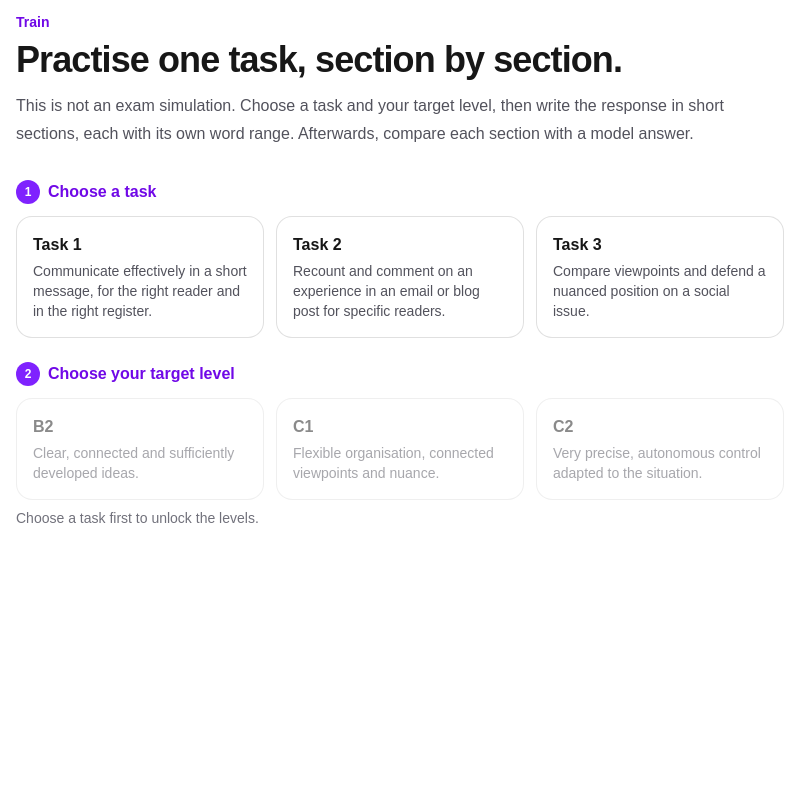
Test: PracticeTrainer › unlocks levels after a task, then previews the three sections with their word ranges
expect the button "B2 Clear, connected and sufficiently developed ideas." is disabled: met, box [16,398,264,500]
expect the text "Start the exercise" is not shown: met
Click the button that starts with "Task 2" at (400,277), box [276,216,524,338]
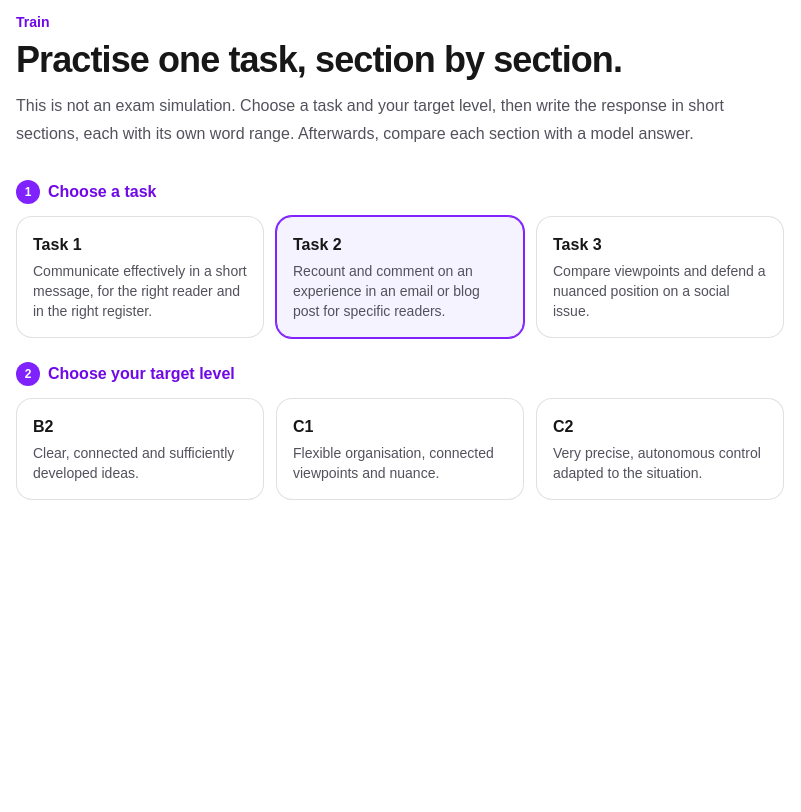
expect the button "B2 Clear, connected and sufficiently developed ideas." is enabled: met, box [16,398,264,500]
Click the button "C1 Flexible organisation, connected viewpoints and nuance." at (400,449), box [276,398,524,500]
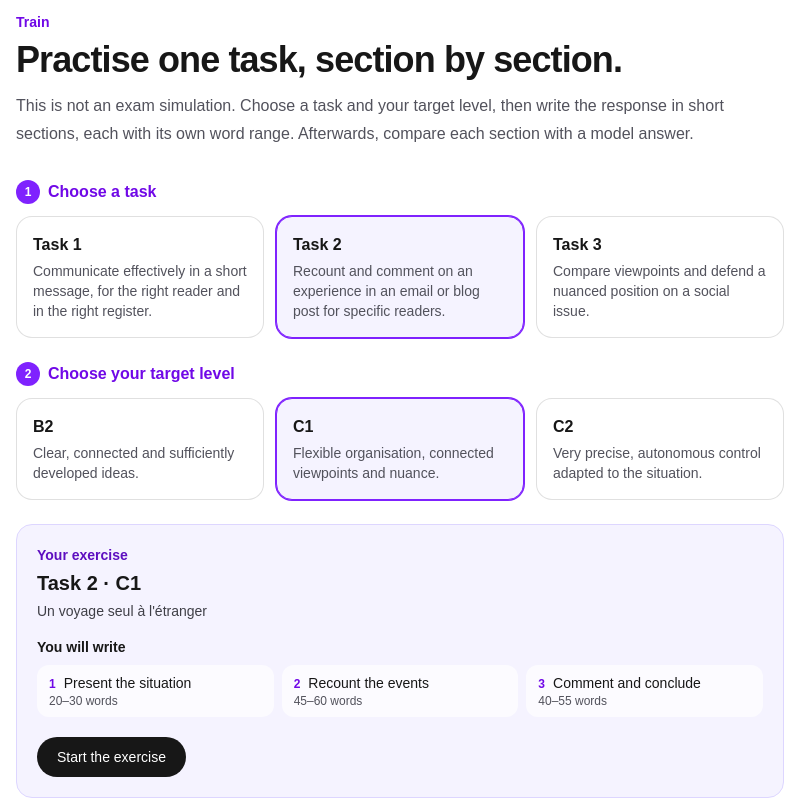
expect the element that starts with "Your exercise" shows "Un voyage seul à l'étranger": met, box [37,603,207,619]
expect the element that starts with "Your exercise" shows "Present the situation": met, box [64,675,191,691]
expect the element that starts with "Your exercise" shows "20–30 words": met, box [49,694,118,708]
